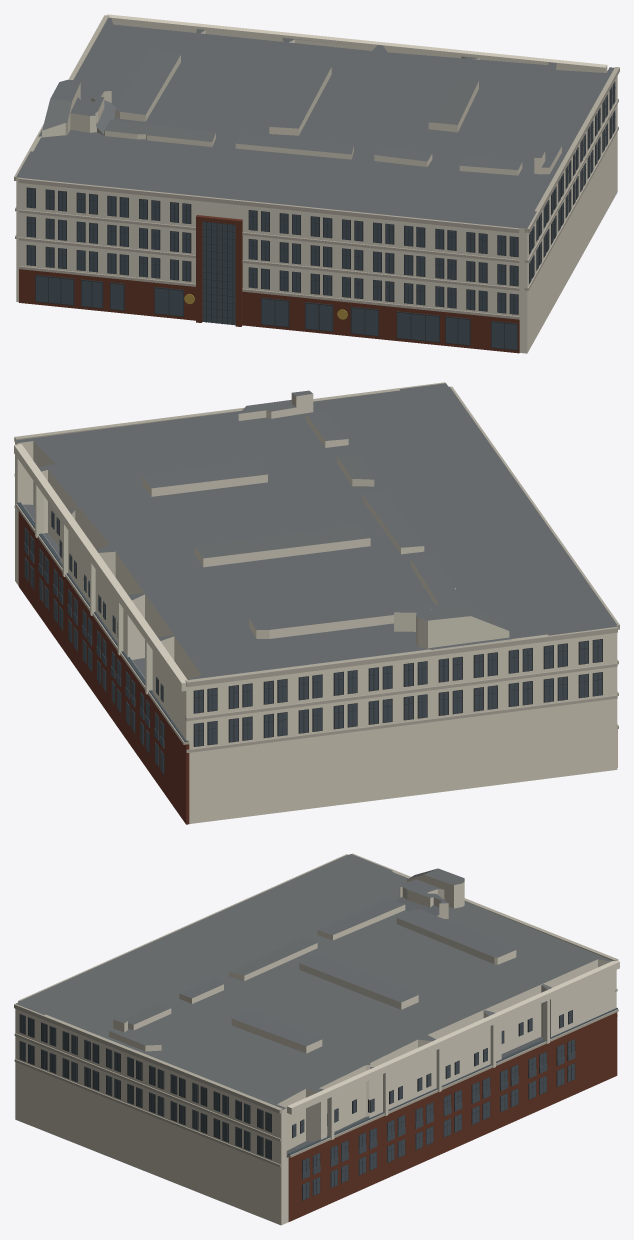
Rendered from willem-de-zwijgerlaan-350.glb.
The picture shows the model from 3 angles, top to bottom: view 1: azimuth 30°, elevation 25°; view 2: azimuth 150°, elevation 25°; view 3: azimuth 270°, elevation 25°; orthographic projection. The views are drawn at different scales.
Visible parts, largest first — view 1: willem-de-zwijgerlaan-350; view 2: willem-de-zwijgerlaan-350; view 3: willem-de-zwijgerlaan-350.
Boxes of the visible parts, left/top/right/bottom form: willem-de-zwijgerlaan-350: left=14, top=14, right=619, bottom=353; willem-de-zwijgerlaan-350: left=14, top=382, right=619, bottom=824; willem-de-zwijgerlaan-350: left=14, top=853, right=619, bottom=1225.
Size of the model in its own units: 74.57 by 18.84 by 74.38.
